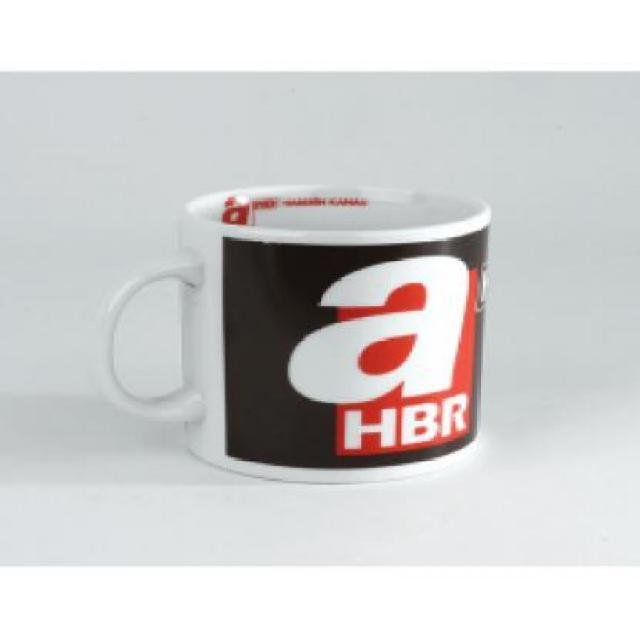taza: (93, 170, 504, 502)
